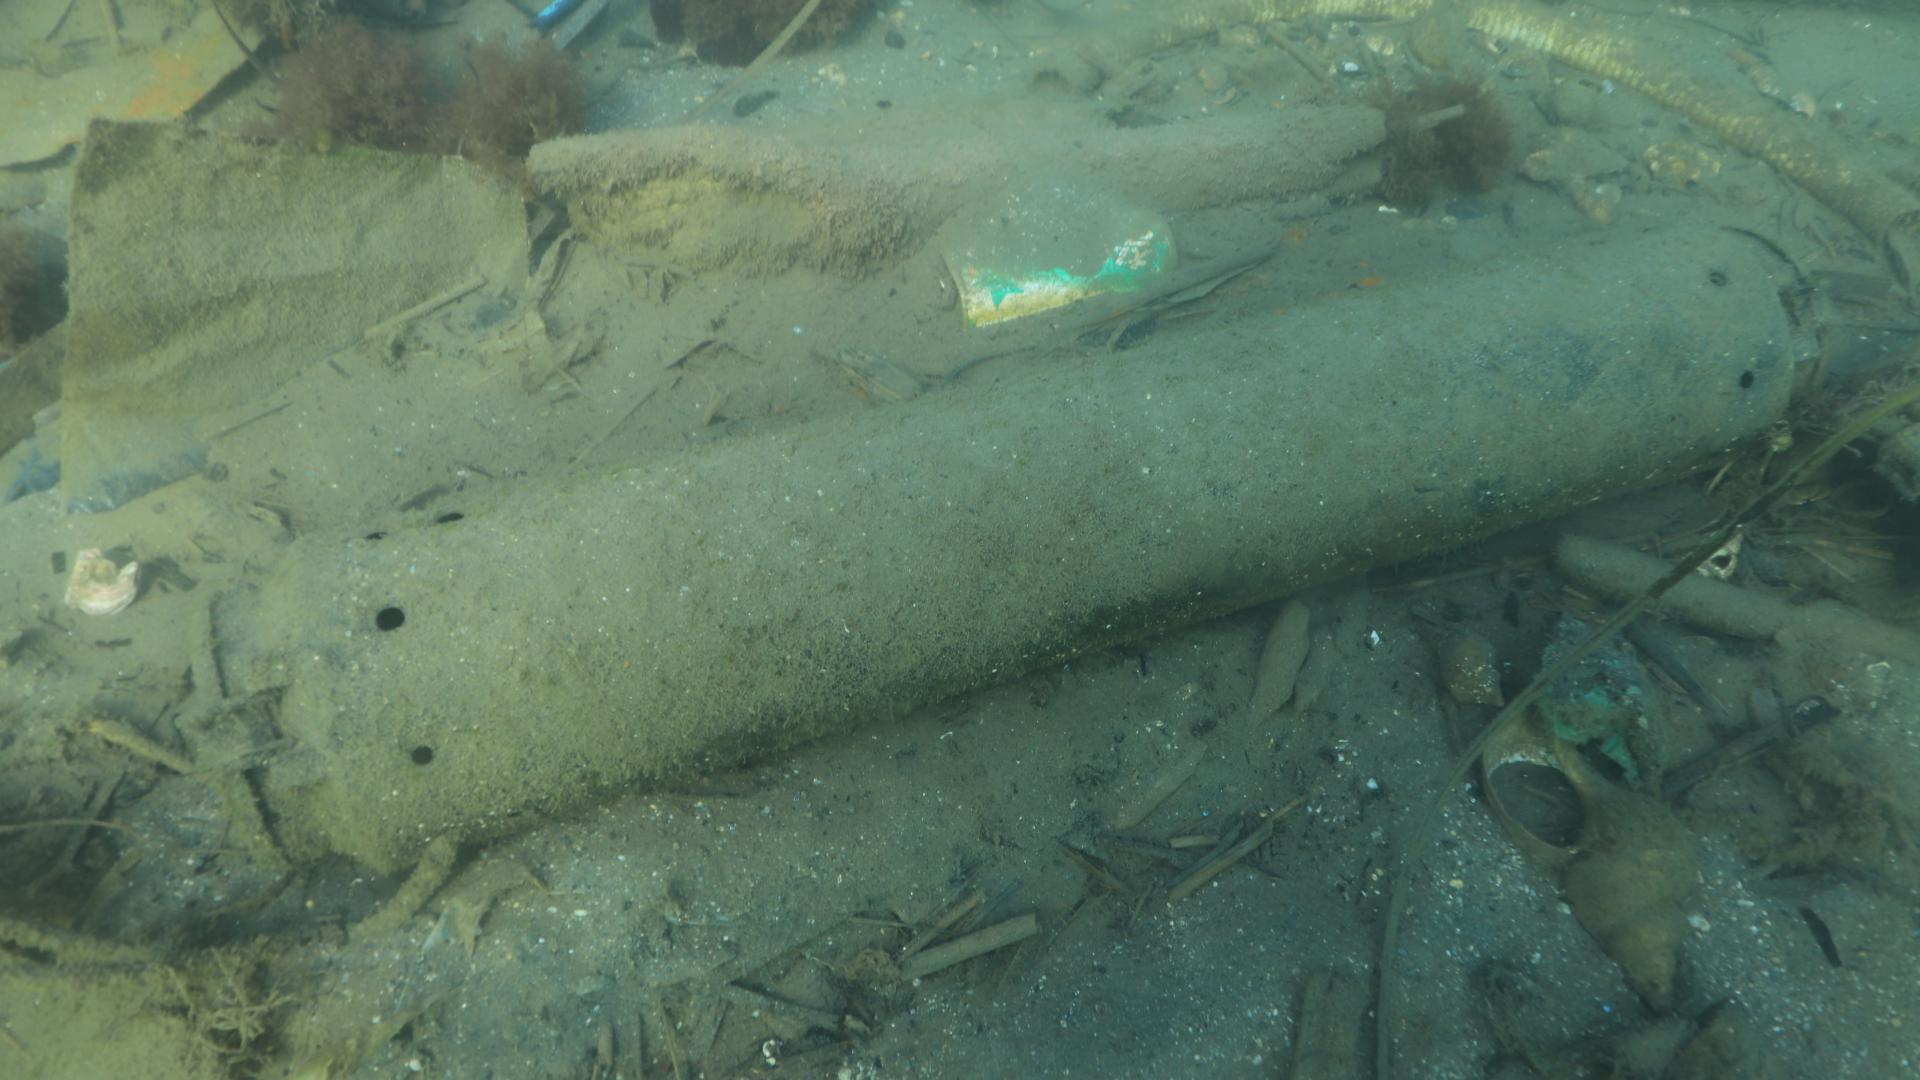eel fish trap: (186, 218, 1822, 872)
